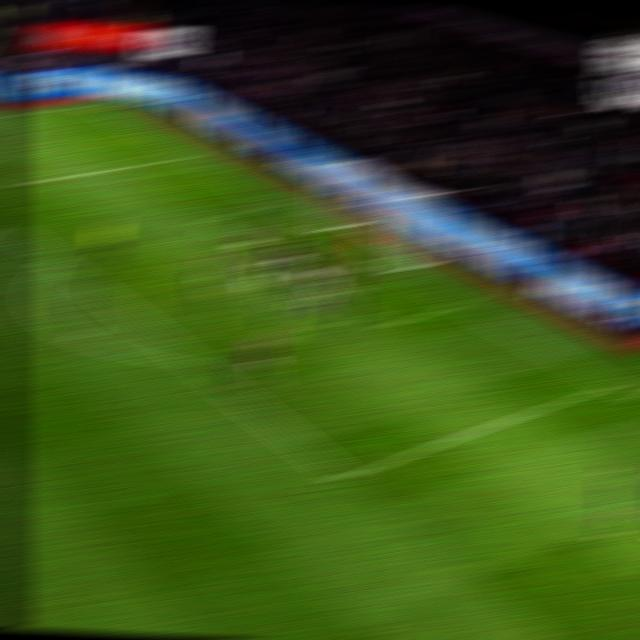bigarea_bottom_inner: (325, 460, 364, 491)
bigarea_bottom_outter: (593, 373, 627, 393)
bigarea_top_outter: (169, 147, 202, 163)
bottom_arc_area_intersection: (174, 349, 209, 370)
corner: (73, 98, 108, 111)
smallarea_bottom_inner: (366, 312, 400, 336)
smallarea_bottom_outter: (441, 291, 474, 311)
smallarea_top_inner: (189, 209, 222, 227)
smallarea_top_outter: (256, 194, 289, 211)
top_arc_area_intersection: (38, 250, 69, 267)
